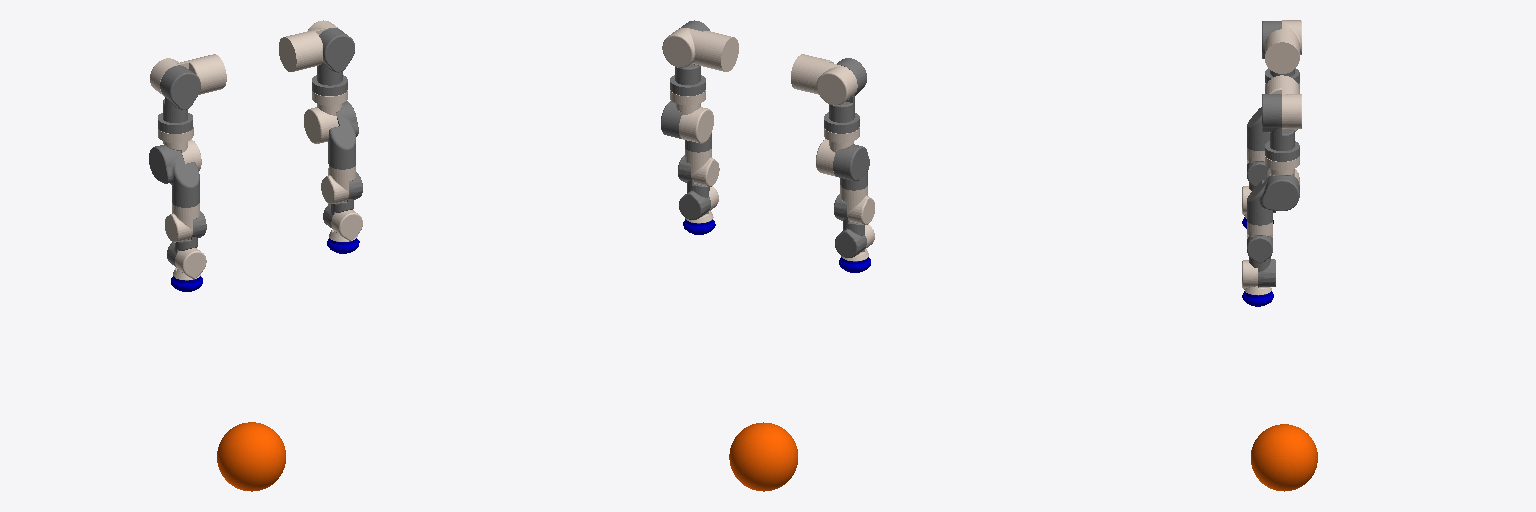
--- Render facts (derived) ---
Views: 3 orthographic renders of the robot side by side, from view 1: azimuth 30°, elevation 25°; view 2: azimuth 150°, elevation 25°; view 3: azimuth 270°, elevation 25°.
Robot: ballbot — 26 links, 25 joints (17 revolute, 8 fixed); root link base_link; default pose: all joints at 0.
Links seen in each view (by area): view 1: Link_Ball, LArm2, LArm4, RArm2, RArm1, RArm4, LArm1, RArm3, LArm5, RArm5, RArm7, LArm7 (+3 smaller); view 2: Link_Ball, RArm1, LArm1, RArm3, LArm2, LArm4, RArm6, LArm6, RArm2, LArm3, LArm5, RArm5 (+1 smaller); view 3: Link_Ball, RArm4, RArm2, LArm1, RArm1, RArm6, LArm4, RArm7, LArm2, RArm3.
Boxes of the visible links, box(x1,y1,x2,y2) form: Link_Ball: box(217, 422, 285, 491); LArm2: box(158, 65, 200, 133); LArm4: box(149, 145, 199, 207); RArm2: box(312, 28, 354, 95); RArm1: box(279, 20, 341, 71); RArm4: box(328, 101, 358, 169); LArm1: box(150, 54, 226, 96); RArm3: box(304, 90, 347, 143); LArm5: box(165, 203, 199, 242); RArm5: box(321, 166, 355, 203); RArm7: box(329, 210, 362, 241); LArm7: box(173, 248, 206, 280); Link_Ball: box(729, 422, 797, 491); RArm1: box(662, 28, 738, 71); LArm1: box(791, 54, 857, 105); RArm3: box(670, 90, 713, 143); LArm2: box(824, 58, 866, 133); LArm4: box(833, 144, 869, 190); RArm6: box(678, 155, 710, 219); LArm6: box(834, 194, 866, 257); RArm2: box(670, 20, 709, 95); LArm3: box(816, 127, 859, 176); LArm5: box(840, 185, 874, 224); RArm5: box(685, 149, 719, 186); Link_Ball: box(1251, 424, 1317, 491); RArm4: box(1247, 175, 1299, 225); RArm2: box(1262, 94, 1299, 161); LArm1: box(1265, 20, 1301, 73); RArm1: box(1265, 75, 1301, 128); RArm6: box(1247, 236, 1275, 287); LArm4: box(1247, 107, 1269, 150); RArm7: box(1242, 260, 1271, 295); LArm2: box(1262, 21, 1299, 83); RArm3: box(1265, 156, 1299, 184).
Bounding box of the posed robot: 0.676 × 0.2387 × 1.49 m (x, y, z).
17 mesh visuals loaded from 12 distinct referenced files (10 binary STL); not drawn: 3 (reference not matched to a file when rendering).

robot.urdf — ballbot:
<?xml version="1.0" ?>
<!-- =================================================================================== -->
<!-- |    This document was autogenerated by xacro from ballbot_plus_knobhands.urdf.xacro | -->
<!-- |    EDITING THIS FILE BY HAND IS NOT RECOMMENDED                                 | -->
<!-- =================================================================================== -->
<robot name="ballbot" xmlns:xacro="http://ros.org/wiki/xacro">
  <!-- CAD -->
  <material name="black">
    <color rgba="0.0 0.0 0.0 1.0"/>
  </material>
  <material name="blue">
    <color rgba="0.0 0.0 0.8 1.0"/>
  </material>
  <material name="green">
    <color rgba="0.0 0.8 0.0 1.0"/>
  </material>
  <material name="dark_grey">
    <color rgba="0.2 0.2 0.2 1.0"/>
  </material>
  <material name="grey">
    <color rgba="0.5 0.5 0.5 1.0"/>
  </material>
  <material name="light_grey">
    <color rgba="0.8 0.8 0.8 1.0"/>
  </material>
  <material name="orange">
    <color rgba="1.0 0.423529411765 0.0392156862745 1.0"/>
  </material>
  <material name="brown">
    <color rgba="0.870588235294 0.811764705882 0.764705882353 1.0"/>
  </material>
  <material name="white">
    <color rgba="1.0 1.0 1.0 1.0"/>
  </material>
  <material name="yellow">
    <color rgba="0.8 0.68 0 1"/>
  </material>
  <material name="red">
    <color rgba="1.0 0.0 0.0 1"/>
  </material>
  <material name="aluminum">
    <color rgba="0.5 0.5 0.5 1"/>
  </material>
  <!-- ros_control plugin -->
  <gazebo>
    <plugin filename="libgazebo_ros_control.so" name="gazebo_ros_control">
      <robotNamespace>/ballbot</robotNamespace>
      <robotSimType>gazebo_ros_control/DefaultRobotHWSim</robotSimType>
      <legacyModeNS>true</legacyModeNS>
    </plugin>
  </gazebo>
  <gazebo reference="BallbotBase">
    <material>Gazebo/Orange</material>
    <selfCollide>false</selfCollide>
    <static>true</static>
  </gazebo>
  <gazebo reference="Link_FakeBall">
    <material>Gazebo/Orange</material>
    <selfCollide>true</selfCollide>
    <static>true</static>
  </gazebo>
  <gazebo reference="Link_Ball">
    <material>Gazebo/Orange</material>
    <self_collide>false</self_collide>
    <static>true</static>
  </gazebo>
  <gazebo reference="Link_FakeBody">
    <material>Gazebo/Orange</material>
    <selfCollide>false</selfCollide>
    <static>true</static>
  </gazebo>
  <gazebo reference="Link_Body">
    <material>Gazebo/Yellow</material>
    <self_collide>true</self_collide>
    <static>true</static>
  </gazebo>
  <!-- Right Arm Transmissions -->
  <transmission name="RArmTran1">
    <type>transmission_interface/SimpleTransmission</type>
    <joint name="JRA1">
      <hardwareInterface>hardware_interface/EffortJointInterface</hardwareInterface>
    </joint>
    <actuator name="RArmMotor1">
      <hardwareInterface>hardware_interface/EffortJointInterface</hardwareInterface>
      <mechanicalReduction>1</mechanicalReduction>
    </actuator>
  </transmission>
  <transmission name="RArmTran2">
    <type>transmission_interface/SimpleTransmission</type>
    <joint name="JRA2">
      <hardwareInterface>hardware_interface/EffortJointInterface</hardwareInterface>
    </joint>
    <actuator name="RArmMotor2">
      <hardwareInterface>hardware_interface/EffortJointInterface</hardwareInterface>
      <mechanicalReduction>1</mechanicalReduction>
    </actuator>
  </transmission>
  <transmission name="RArmTran3">
    <type>transmission_interface/SimpleTransmission</type>
    <joint name="JRA3">
      <hardwareInterface>hardware_interface/EffortJointInterface</hardwareInterface>
    </joint>
    <actuator name="RArmMotor3">
      <hardwareInterface>hardware_interface/EffortJointInterface</hardwareInterface>
      <mechanicalReduction>1</mechanicalReduction>
    </actuator>
  </transmission>
  <transmission name="RArmTran4">
    <type>transmission_interface/SimpleTransmission</type>
    <joint name="JRA4">
      <hardwareInterface>hardware_interface/EffortJointInterface</hardwareInterface>
    </joint>
    <actuator name="RArmMotor4">
      <hardwareInterface>hardware_interface/EffortJointInterface</hardwareInterface>
      <mechanicalReduction>1</mechanicalReduction>
    </actuator>
  </transmission>
  <transmission name="RArmTran5">
    <type>transmission_interface/SimpleTransmission</type>
    <joint name="JRA5">
      <hardwareInterface>hardware_interface/EffortJointInterface</hardwareInterface>
    </joint>
    <actuator name="RArmMotor5">
      <hardwareInterface>hardware_interface/EffortJointInterface</hardwareInterface>
      <mechanicalReduction>1</mechanicalReduction>
    </actuator>
  </transmission>
  <transmission name="RArmTran6">
    <type>transmission_interface/SimpleTransmission</type>
    <joint name="JRA6">
      <hardwareInterface>hardware_interface/EffortJointInterface</hardwareInterface>
    </joint>
    <actuator name="RArmMotor6">
      <hardwareInterface>hardware_interface/EffortJointInterface</hardwareInterface>
      <mechanicalReduction>1</mechanicalReduction>
    </actuator>
  </transmission>
  <transmission name="RArmTran7">
    <type>transmission_interface/SimpleTransmission</type>
    <joint name="JRA7">
      <hardwareInterface>hardware_interface/EffortJointInterface</hardwareInterface>
    </joint>
    <actuator name="RArmMotor7">
      <hardwareInterface>hardware_interface/EffortJointInterface</hardwareInterface>
      <mechanicalReduction>1</mechanicalReduction>
    </actuator>
  </transmission>
  <!-- Left Arm Transmissions -->
  <transmission name="LArmTran1">
    <type>transmission_interface/SimpleTransmission</type>
    <joint name="JLA1">
      <hardwareInterface>hardware_interface/EffortJointInterface</hardwareInterface>
    </joint>
    <actuator name="LArmMotor1">
      <hardwareInterface>hardware_interface/EffortJointInterface</hardwareInterface>
      <mechanicalReduction>1</mechanicalReduction>
    </actuator>
  </transmission>
  <transmission name="LArmTran2">
    <type>transmission_interface/SimpleTransmission</type>
    <joint name="JLA2">
      <hardwareInterface>hardware_interface/EffortJointInterface</hardwareInterface>
    </joint>
    <actuator name="LArmMotor2">
      <hardwareInterface>hardware_interface/EffortJointInterface</hardwareInterface>
      <mechanicalReduction>1</mechanicalReduction>
    </actuator>
  </transmission>
  <transmission name="LArmTran3">
    <type>transmission_interface/SimpleTransmission</type>
    <joint name="JLA3">
      <hardwareInterface>hardware_interface/EffortJointInterface</hardwareInterface>
    </joint>
    <actuator name="LArmMotor3">
      <hardwareInterface>hardware_interface/EffortJointInterface</hardwareInterface>
      <mechanicalReduction>1</mechanicalReduction>
    </actuator>
  </transmission>
  <transmission name="LArmTran4">
    <type>transmission_interface/SimpleTransmission</type>
    <joint name="JLA4">
      <hardwareInterface>hardware_interface/EffortJointInterface</hardwareInterface>
    </joint>
    <actuator name="LArmMotor4">
      <hardwareInterface>hardware_interface/EffortJointInterface</hardwareInterface>
      <mechanicalReduction>1</mechanicalReduction>
    </actuator>
  </transmission>
  <transmission name="LArmTran5">
    <type>transmission_interface/SimpleTransmission</type>
    <joint name="JLA5">
      <hardwareInterface>hardware_interface/EffortJointInterface</hardwareInterface>
    </joint>
    <actuator name="LArmMotor5">
      <hardwareInterface>hardware_interface/EffortJointInterface</hardwareInterface>
      <mechanicalReduction>1</mechanicalReduction>
    </actuator>
  </transmission>
  <transmission name="LArmTran6">
    <type>transmission_interface/SimpleTransmission</type>
    <joint name="JLA6">
      <hardwareInterface>hardware_interface/EffortJointInterface</hardwareInterface>
    </joint>
    <actuator name="LArmMotor6">
      <hardwareInterface>hardware_interface/EffortJointInterface</hardwareInterface>
      <mechanicalReduction>1</mechanicalReduction>
    </actuator>
  </transmission>
  <transmission name="LArmTran7">
    <type>transmission_interface/SimpleTransmission</type>
    <joint name="JLA7">
      <hardwareInterface>hardware_interface/EffortJointInterface</hardwareInterface>
    </joint>
    <actuator name="LArmMotor7">
      <hardwareInterface>hardware_interface/EffortJointInterface</hardwareInterface>
      <mechanicalReduction>1</mechanicalReduction>
    </actuator>
  </transmission>
  <!--<gazebo reference="">
    <material>Gazebo/Yellow</material>
  </gazebo>

  - Right Arm 
  <gazebo reference="Link_FakeBall">
    <mu1>0.2</mu1>
    <mu2>0.2</mu1>
    <material>Gazebo/Orange</material>
  </gazebo>

  <gazebo reference="Link_Ball">
    <mu1>0.2</mu1>
    <mu2>0.2</mu1>
    <material>Gazebo/Orange</material>
  </gazebo>

  <gazebo reference="Link_FakeBody">
    <mu1>0.2</mu1>
    <mu2>0.2</mu1>
    <material>Gazebo/Orange</material>
  </gazebo>

  <gazebo reference="Link_Body">
    <mu1>0.2</mu1>
    <mu2>0.2</mu1>
    <material>Gazebo/Orange</material>
  </gazebo-->
  <!-- Used for fixing robot to Gazebo 'base_link' -->
  <link name="base_link"/>
  <link name="Link_Ball">
    <inertial>
      <origin xyz="0.0 0.0 0.105838"/>
      <mass value="2.72"/>
      <inertia ixx="0.01220" ixy="0.00000" ixz="0.00000" iyy="0.01220" iyz="0.00000" izz="0.01220"/>
    </inertial>
    <visual>
      <origin rpy="0.0 0.0 0.0" xyz="0.0 0.0 0.0"/>
      <geometry>
        <mesh filename="package://ballbot_arm_description/meshes/v2020/ball.stl"/>
      </geometry>
      <material name="orange"/>
    </visual>
    <collision>
      <origin rpy="0 0 0" xyz="0 0 0"/>
      <geometry>
        <mesh filename="package://ballbot_arm_description/meshes/v2020/ball.stl"/>
      </geometry>
    </collision>
  </link>
  <link name="Link_Pitch">
    <inertial>
      <origin xyz="0.00000 0.00000 0.00000"/>
      <mass value="0.00001"/>
      <inertia ixx="0.0000001" ixy="0.0" ixz="0.0" iyy="0.0000001" iyz="0.0" izz="0.0000001"/>
    </inertial>
  </link>
  <link name="Link_Roll">
    <inertial>
      <origin xyz="0.00000 0.00000 0.00000"/>
      <mass value="0.00001"/>
      <inertia ixx="0.0000001" ixy="0.0" ixz="0.0" iyy="0.0000001" iyz="0.0" izz="0.0000001"/>
    </inertial>
  </link>
  <link name="Link_Yaw">
    <inertial>
      <origin xyz="0.00000 0.00000 0.00000"/>
      <mass value="0.00001"/>
      <inertia ixx="0.0000001" ixy="0.0" ixz="0.0" iyy="0.0000001" iyz="0.0" izz="0.0000001"/>
    </inertial>
  </link>
  <!-- Joints -->
  <joint name="Joint_World_Ball" type="fixed">
    <origin rpy="0.0 0.0 0.0" xyz="0.0 0.0 0.105838"/>
    <parent link="base_link"/>
    <child link="Link_Ball"/>
    <axis xyz="0 0 1"/>
  </joint>
  <joint name="xAngle" type="revolute">
    <origin rpy="0.0 0.0 0.0" xyz="0.0 0.0 0.0"/>
    <parent link="Link_Ball"/>
    <child link="Link_Pitch"/>
    <limit effort="30" lower="-0.349065850399" upper="0.349065850399" velocity="1.0"/>
    <axis xyz="0 1 0"/>
  </joint>
  <joint name="yAngle" type="revolute">
    <origin rpy="0.0 0.0 0.0" xyz="0.00000 0.00000 0.00000"/>
    <parent link="Link_Pitch"/>
    <child link="Link_Roll"/>
    <limit effort="30" lower="-0.349065850399" upper="0.349065850399" velocity="1.0"/>
    <axis xyz="-1 0 0"/>
  </joint>
  <joint name="yaw" type="revolute">
    <origin rpy="0.0 0.0 0.0" xyz="0.00000 0.00000 0.0"/>
    <parent link="Link_Roll"/>
    <child link="Link_Yaw"/>
    <limit effort="30" lower="-3.14159265359" upper="3.14159265359" velocity="1.0"/>
    <axis xyz="0 0 1"/>
  </joint>
  <joint name="JBalltoBody" type="fixed">
    <origin rpy="0.0 0.0 1.5707963268" xyz="0.0 0.0 0.762"/>
    <parent link="Link_Yaw"/>
    <child link="body_link"/>
    <limit effort="30" velocity="1.0"/>
    <axis xyz="0 0 1"/>
  </joint>
  <link name="body_link">
    <inertial>
      <origin xyz="0.015 0.0005 -0.015"/>
      <mass value="64.86"/>
      <inertia ixx="10.61648" ixy="0.00000" ixz="0.00000" iyy="10.61648" iyz="0.00000" izz="0.66440"/>
    </inertial>
    <visual>
      <origin rpy="0 0 0" xyz="0 0 -0.762"/>
      <geometry>
        <mesh filename="package://ballbot_arm_description/meshes/v2020/ballbot_body_v2021.stl"/>
      </geometry>
      <material name="yellow"/>
    </visual>
    <collision>
      <origin rpy="0 0 0" xyz="0 0 -0.0595"/>
      <geometry>
        <cylinder length="1.105" radius="0.184"/>
      </geometry>
    </collision>
  </link>
  <!-- ====================================== -->
  <!-- Right Arm -->
  <joint name="JRA0" type="fixed">
    <origin rpy="-1.5707963268 -1.5707963268 3.14159265359" xyz="-0.00635 -0.12314 0.56715"/>
    <parent link="body_link"/>
    <child link="RArm0"/>
    <axis xyz="0 0 1"/>
    <dynamics damping="1.0" friction="1.0"/>
  </joint>
  <link name="RArm0">
    <inertial>
      <origin rpy="0 0 0" xyz="-0.00832 0.0 -0.0418"/>
      <mass value="2.367"/>
      <inertia ixx="0.00366" ixy="0.0" ixz="-0.0000208" iyy="0.00398" iyz="0.0" izz="0.00461"/>
    </inertial>
    <visual>
      <origin rpy="0 0 0" xyz="0 0 0"/>
      <geometry>
        <mesh filename="package://ballbot_arm_description/meshes/v2020/link_base.stl"/>
      </geometry>
      <material name="grey"/>
    </visual>
    <collision>
      <origin rpy="0 0 0" xyz="0 0 0"/>
      <geometry>
        <mesh filename="package://ballbot_arm_description/meshes/v2020/link_base.stl"/>
      </geometry>
    </collision>
  </link>
  <link name="RArm1">
    <inertial>
      <origin xyz="0.0 0.00329 0.0865"/>
      <mass value="4.181"/>
      <inertia ixx="0.0172" ixy="0.0000173" ixz="0.0" iyy="0.0170" iyz="-0.000935" izz="0.00602"/>
    </inertial>
    <visual>
      <origin rpy="0 0 3.14159265359" xyz="0.0 0.0 0.0"/>
      <geometry>
        <mesh filename="package://ballbot_arm_description/meshes/v2020/link_shoulder_2_base.stl"/>
      </geometry>
      <material name="brown"/>
    </visual>
    <collision>
      <origin rpy="0 0 0" xyz="0.0 0.0 -0.05525"/>
      <geometry>
        <cylinder length="0.1105" radius="0.05"/>
      </geometry>
    </collision>
  </link>
  <link name="RArm2">
    <inertial>
      <origin xyz="-0.123 0.000 -0.0507"/>
      <mass value="1.832"/>
      <inertia ixx="0.00241" ixy="0.0" ixz="-0.000742" iyy="0.00559" iyz="0.0" izz="0.00563"/>
    </inertial>
    <visual>
      <origin rpy="0 0 0" xyz="0.0 0.0 0.0"/>
      <geometry>
        <mesh filename="package://ballbot_arm_description/meshes/v2020/link_shoulder_2_uparm.stl"/>
      </geometry>
      <material name="grey"/>
    </visual>
    <collision>
      <origin rpy="0 0 0" xyz="0.0 0.0 -0.05525"/>
      <geometry>
        <cylinder length="0.1105" radius="0.05"/>
      </geometry>
    </collision>
  </link>
  <link name="RArm3">
    <inertial>
      <origin xyz="0.0 -0.00963 0.0773"/>
      <mass value="1.821"/>
      <inertia ixx="0.00375" ixy="0.0" ixz="0.0" iyy="0.00338" iyz="0.000169" izz="0.00278"/>
    </inertial>
    <visual>
      <origin rpy="0 0 0" xyz="0.0 0.0 -0.02718"/>
      <geometry>
        <mesh filename="package://ballbot_arm_description/meshes/v2020/link_upperarm.stl"/>
      </geometry>
      <material name="brown"/>
    </visual>
    <collision>
      <origin rpy="0 0 0" xyz="0.0 0.0 -0.05525"/>
      <geometry>
        <cylinder length="0.1105" radius="0.05"/>
      </geometry>
    </collision>
  </link>
  <link name="RArm4">
    <inertial>
      <origin xyz="-0.0758 0.0594 -0.0448"/>
      <mass value="1.105"/>
      <inertia ixx="0.00186" ixy="0.000915" ixz="-0.000456" iyy="0.00276" iyz="0.000276" izz="0.00356"/>
    </inertial>
    <visual>
      <origin rpy="0 0 0" xyz="0.0 0.0 0.0"/>
      <geometry>
        <mesh filename="package://ballbot_arm_description/meshes/v2020/link_forearm_r.stl"/>
      </geometry>
      <material name="grey"/>
    </visual>
    <collision>
      <origin rpy="0 0 0" xyz="0.0 0.0 -0.05525"/>
      <geometry>
        <cylinder length="0.1105" radius="0.05"/>
      </geometry>
    </collision>
  </link>
  <link name="RArm5">
    <inertial>
      <origin xyz="-0.00147 0.0 -0.0537"/>
      <mass value="0.973"/>
      <inertia ixx="0.00106" ixy="0.0" ixz="-0.0000188" iyy="0.00123" iyz="0.0" izz="0.00101"/>
    </inertial>
    <visual>
      <origin rpy="0 0 0" xyz="0.0 0.0 0.0"/>
      <geometry>
        <mesh filename="package://ballbot_arm_description/meshes/v2020/link_forearm_2_wrist.stl"/>
      </geometry>
      <material name="brown"/>
    </visual>
    <collision>
      <origin rpy="0 0 0" xyz="0.0 0.0 0.0495"/>
      <geometry>
        <cylinder length="0.099" radius="0.0375"/>
      </geometry>
    </collision>
  </link>
  <link name="RArm6">
    <inertial>
      <origin xyz="0.0947 0.00543 0.0386"/>
      <mass value="1.013"/>
      <inertia ixx="0.00106" ixy="-0.0000831" ixz="-0.000236" iyy="0.00193" iyz="-0.0000139" izz="0.00215"/>
    </inertial>
    <visual>
      <origin rpy="0 0 0" xyz="0.0 0.0 0.0"/>
      <geometry>
        <mesh filename="package://ballbot_arm_description/meshes/v2020/link_wrist_mid.stl"/>
      </geometry>
      <material name="grey"/>
    </visual>
    <collision>
      <origin rpy="0 0 0" xyz="0.0 0.0 0.0495"/>
      <geometry>
        <cylinder length="0.099" radius="0.0375"/>
      </geometry>
    </collision>
  </link>
  <link name="RArm7">
    <inertial>
      <origin xyz="0.0235 -0.000000178 0.0295"/>
      <mass value="0.195"/>
      <inertia ixx="0.000257" ixy="0.0" ixz="-0.0000691" iyy="0.000325" iyz="0.0" izz="0.000362"/>
    </inertial>
    <visual>
      <origin rpy="0 0 0" xyz="0.0 0.0 0.0"/>
      <geometry>
        <mesh filename="package://ballbot_arm_description/meshes/v2020/link_wrist_2_hand.stl"/>
      </geometry>
      <material name="brown"/>
    </visual>
    <collision>
      <origin rpy="0 0 0" xyz="0.0 0.0 0.0495"/>
      <geometry>
        <cylinder length="0.099" radius="0.0375"/>
      </geometry>
    </collision>
  </link>
  <joint name="JRA1" type="revolute">
    <origin rpy="0.0 0.0 0.0" xyz="0.0 0.0 0.0"/>
    <parent link="RArm0"/>
    <child link="RArm1"/>
    <limit effort="30.0" lower="-2.96705972839" upper="2.96705972839" velocity="3.0"/>
    <axis xyz="0 0 1"/>
    <dynamics damping="0.7" friction="0.5"/>
  </joint>
  <joint name="JRA2" type="revolute">
    <origin rpy="-1.5707963705062866 0.0 -0.0" xyz="0.00000 0.05436 0.14900"/>
    <parent link="RArm1"/>
    <child link="RArm2"/>
    <limit effort="30.0" lower="-0.0349065850399" upper="1.5707963268" velocity="3.0"/>
    <axis xyz="0 0 1"/>
    <dynamics damping="0.7" friction="0.5"/>
  </joint>
  <joint name="JRA3" type="revolute">
    <origin rpy="3.141592653589793 -1.570796282091413 3.141592653589793" xyz="-0.17786 0.00000 -0.05436"/>
    <parent link="RArm2"/>
    <child link="RArm3"/>
    <limit effort="30.0" lower="-1.5707963268" upper="1.5707963268" velocity="3.0"/>
    <axis xyz="0 0 1"/>
    <dynamics damping="0.7" friction="0.5"/>
  </joint>
  <joint name="JRA4" type="revolute">
    <origin rpy="-2.3561944901923457 1.5707962635746238 2.3561944901923457" xyz="0.00000 -0.05436 0.08522"/>
    <parent link="RArm3"/>
    <child link="RArm4"/>
    <limit effort="30.0" lower="-0.349065850399" upper="2.79252680319" velocity="3.0"/>
    <axis xyz="0 0 1"/>
    <dynamics damping="0.7" friction="0.5"/>
  </joint>
  <joint name="JRA5" type="revolute">
    <origin rpy="0 1.5707963268 0" xyz="-0.13200 0.07000 -0.05073"/>
    <parent link="RArm4"/>
    <child link="RArm5"/>
    <limit effort="30.0" lower="-2.82743338823" upper="2.82743338823" velocity="3.0"/>
    <axis xyz="0 0 1"/>
    <dynamics damping="0.7" friction="0.5"/>
  </joint>
  <joint name="JRA6" type="revolute">
    <origin rpy="0 1.5707963268 0" xyz="-0.04115 0.0 -0.06"/>
    <parent link="RArm5"/>
    <child link="RArm6"/>
    <limit effort="30.0" lower="-1.49599650171" upper="1.49599650171" velocity="3.0"/>
    <axis xyz="0 0 1"/>
    <dynamics damping="0.7" friction="0.5"/>
  </joint>
  <joint name="JRA7" type="revolute">
    <origin rpy="1.5707963268 0.0 0.0" xyz="0.10750 0.04650 0.041150"/>
    <parent link="RArm6"/>
    <child link="RArm7"/>
    <limit effort="30.0" lower="-1.49599650171" upper="1.49599650171" velocity="3.0"/>
    <axis xyz="0 0 1"/>
    <dynamics damping="0.7" friction="0.5"/>
  </joint>
  <link name="toolR">
    <inertial>
      <origin xyz="0.0 0.0 0.0"/>
      <mass value="0.0"/>
      <inertia ixx="0.00001" ixy="0.0" ixz="0.0" iyy="0.00001" iyz="0.0" izz="0.00001"/>
    </inertial>
  </link>
  <joint name="RArm7-toolR" type="fixed">
    <origin rpy="0 1.5707963268 0" xyz="0.055 0 0.04065"/>
    <axis xyz="0 0 1"/>
    <parent link="RArm7"/>
    <child link="toolR"/>
  </joint>
  <!-- ====================================== -->
  <!-- Left Arm-->
  <joint name="JLA0" type="fixed">
    <origin rpy="1.5707963268 -1.5707963268 -3.14159265359" xyz="-0.00635 0.12314 0.56715"/>
    <parent link="body_link"/>
    <child link="LArm0"/>
    <axis xyz="0 0 1"/>
  </joint>
  <link name="LArm0">
    <inertial>
      <origin rpy="0 0 0" xyz="-0.00832 0.0 -0.0418"/>
      <mass value="2.367"/>
      <inertia ixx="0.00366" ixy="0.0" ixz="-0.0000208" iyy="0.00398" iyz="0.0" izz="0.00461"/>
    </inertial>
    <visual>
      <origin rpy="0 0 0" xyz="0 0 0"/>
      <geometry>
        <mesh filename="package://ballbot_arm_description/meshes/v2020/link_base.stl"/>
      </geometry>
      <material name="grey"/>
    </visual>
    <collision>
      <origin rpy="0 0 0" xyz="0 0 0"/>
      <geometry>
        <mesh filename="package://ballbot_arm_description/meshes/v2020/link_base.stl"/>
      </geometry>
    </collision>
  </link>
  <link name="LArm1">
    <inertial>
      <origin xyz="0.0 0.00329 0.0865"/>
      <mass value="4.181"/>
      <inertia ixx="0.0172" ixy="0.0000173" ixz="0.0" iyy="0.0170" iyz="-0.000935" izz="0.00602"/>
    </inertial>
    <visual>
      <origin rpy="0 0 0" xyz="0.0 0.0 0.0"/>
      <geometry>
        <mesh filename="package://ballbot_arm_description/meshes/v2020/link_shoulder_2_base.stl"/>
      </geometry>
      <material name="brown"/>
    </visual>
    <collision>
      <origin rpy="0 0 0" xyz="0.0 0.0 -0.05525"/>
      <geometry>
        <cylinder length="0.1105" radius="0.05"/>
      </geometry>
      <material name="blue"/>
    </collision>
  </link>
  <link name="LArm2">
    <inertial>
      <origin xyz="-0.123 0.000 -0.0507"/>
      <mass value="1.832"/>
      <inertia ixx="0.00241" ixy="0.0" ixz="-0.000742" iyy="0.00559" iyz="0.0" izz="0.00563"/>
    </inertial>
    <visual>
      <origin rpy="0 0 0" xyz="0.0 0.0 0.0"/>
      <geometry>
        <mesh filename="package://ballbot_arm_description/meshes/v2020/link_shoulder_2_uparm.stl"/>
      </geometry>
      <material name="grey"/>
    </visual>
    <collision>
      <origin rpy="0 0 0" xyz="0.0 0.0 -0.05525"/>
      <geometry>
        <cylinder length="0.1105" radius="0.05"/>
      </geometry>
      <material name="blue"/>
    </collision>
  </link>
  <link name="LArm3">
    <inertial>
      <origin xyz="0.0 -0.00963 0.0773"/>
      <mass value="1.821"/>
      <inertia ixx="0.00375" ixy="0.0" ixz="0.0" iyy="0.00338" iyz="0.000169" izz="0.00278"/>
    </inertial>
    <visual>
      <origin rpy="0 0 0" xyz="0.0 0.0 -0.02718"/>
      <geometry>
        <mesh filename="package://ballbot_arm_description/meshes/v2020/link_upperarm.stl"/>
      </geometry>
      <material name="brown"/>
    </visual>
    <collision>
      <origin rpy="0 0 0" xyz="0.0 0.0 -0.05525"/>
      <geometry>
        <cylinder length="0.1105" radius="0.05"/>
      </geometry>
      <material name="blue"/>
    </collision>
  </link>
  <link name="LArm4">
    <inertial>
      <origin xyz="-0.0758 -0.0594 -0.0448"/>
      <mass value="1.105"/>
      <inertia ixx="0.00186" ixy="-0.000915" ixz="-0.000456" iyy="0.00276" iyz="-0.000276" izz="0.00356"/>
    </inertial>
    <visual>
      <origin rpy="0 0 0" xyz="0.0 0.0 0.0"/>
      <geometry>
        <mesh filename="package://ballbot_arm_description/meshes/v2020/link_forearm.stl"/>
      </geometry>
      <material name="grey"/>
    </visual>
    <collision>
      <origin rpy="0 0 0" xyz="0.0 0.0 -0.05525"/>
      <geometry>
        <cylinder length="0.1105" radius="0.05"/>
      </geometry>
      <material name="blue"/>
    </collision>
  </link>
  <link name="LArm5">
    <inertial>
      <origin xyz="-0.00147 0.0 -0.0537"/>
      <mass value="0.973"/>
      <inertia ixx="0.00106" ixy="0.0" ixz="-0.0000188" iyy="0.00123" iyz="0.0" izz="0.00101"/>
    </inertial>
    <visual>
      <origin rpy="0 0 0" xyz="0.0 0.0 0.0"/>
      <geometry>
        <mesh filename="package://ballbot_arm_description/meshes/v2020/link_forearm_2_wrist.stl"/>
      </geometry>
      <material name="brown"/>
    </visual>
    <collision>
      <origin rpy="0 0 0" xyz="0.0 0.0 0.0495"/>
      <geometry>
        <cylinder length="0.099" radius="0.0375"/>
      </geometry>
      <material name="blue"/>
    </collision>
  </link>
  <link name="LArm6">
    <inertial>
      <origin xyz="0.0947 0.00543 0.0386"/>
      <mass value="1.013"/>
      <inertia ixx="0.00106" ixy="-0.0000831" ixz="-0.000236" iyy="0.00193" iyz="-0.0000139" izz="0.00215"/>
    </inertial>
    <visual>
      <origin rpy="0 0 0" xyz="0.0 0.0 0.0"/>
      <geometry>
        <mesh filename="package://ballbot_arm_description/meshes/v2020/link_wrist_mid.stl"/>
      </geometry>
      <material name="grey"/>
    </visual>
    <collision>
      <origin rpy="0 0 0" xyz="0.0 0.0 0.0495"/>
      <geometry>
        <cylinder length="0.099" radius="0.0375"/>
      </geometry>
      <material name="blue"/>
    </collision>
  </link>
  <link name="LArm7">
    <inertial>
      <origin xyz="0.0235 -0.000000178 0.0295"/>
      <mass value="0.195"/>
      <inertia ixx="0.000257" ixy="0.0" ixz="-0.0000691" iyy="0.000325" iyz="0.0" izz="0.000362"/>
    </inertial>
    <visual>
      <origin rpy="0 0 0" xyz="0.0 0.0 0.0"/>
      <geometry>
        <mesh filename="package://ballbot_arm_description/meshes/v2020/link_wrist_2_hand.stl"/>
      </geometry>
      <material name="brown"/>
    </visual>
    <collision>
      <origin rpy="0 0 0" xyz="0.0 0.0 0.0495"/>
      <geometry>
        <cylinder length="0.099" radius="0.0375"/>
      </geometry>
      <material name="blue"/>
    </collision>
  </link>
  <joint name="JLA1" type="revolute">
    <origin rpy="0.0 0.0 0.0" xyz="0.0 0.0 0.0"/>
    <parent link="LArm0"/>
    <child link="LArm1"/>
    <limit effort="30.0" lower="-2.96705972839" upper="2.96705972839" velocity="3.0"/>
    <axis xyz="0 0 1"/>
    <dynamics damping="0.7" friction="0.5"/>
  </joint>
  <joint name="JLA2" type="revolute">
    <origin rpy="1.5707963705062866 -0.0 0.0" xyz="0.00000 -0.05436 0.14900"/>
    <parent link="LArm1"/>
    <child link="LArm2"/>
    <limit effort="30.0" lower="-1.5707963268" upper="0.0349065850399" velocity="3.0"/>
    <axis xyz="0 0 1"/>
    <dynamics damping="0.7" friction="0.5"/>
  </joint>
  <joint name="JLA3" type="revolute">
    <origin rpy="2.0344439357957036 1.5707962290814481 -1.1071487177940917" xyz="-0.17786 0.00000 -0.05436"/>
    <parent link="LArm2"/>
    <child link="LArm3"/>
    <limit effort="30.0" lower="-1.5707963268" upper="1.5707963268" velocity="3.0"/>
    <axis xyz="0 0 1"/>
    <dynamics damping="0.7" friction="0.5"/>
  </joint>
  <joint name="JLA4" type="revolute">
    <origin rpy="-2.3561944901923457 1.5707962635746238 2.3561944901923457" xyz="0.00000 -0.05436 0.08522"/>
    <parent link="LArm3"/>
    <child link="LArm4"/>
    <limit effort="30.0" lower="-2.79252680319" upper="0.349065850399" velocity="3.0"/>
    <axis xyz="0 0 1"/>
    <dynamics damping="0.7" friction="0.5"/>
  </joint>
  <joint name="JLA5" type="revolute">
    <origin rpy="-1.5707963268 -1.5707963268 -1.5707963268" xyz="-0.13200 -0.07000 -0.05073"/>
    <parent link="LArm4"/>
    <child link="LArm5"/>
    <limit effort="30.0" lower="-2.82743338823" upper="2.82743338823" velocity="3.0"/>
    <axis xyz="0 0 1"/>
    <dynamics damping="0.7" friction="0.5"/>
  </joint>
  <joint name="JLA6" type="revolute">
    <origin rpy="0 1.5707963268 0" xyz="-0.041150 0.0 -0.06000"/>
    <parent link="LArm5"/>
    <child link="LArm6"/>
    <limit effort="30.0" lower="-1.49599650171" upper="1.49599650171" velocity="3.0"/>
    <axis xyz="0 0 1"/>
    <dynamics damping="0.7" friction="0.5"/>
  </joint>
  <joint name="JLA7" type="revolute">
    <origin rpy="1.5707963268 0.0 0.0" xyz="0.10750 0.04650 0.041150"/>
    <parent link="LArm6"/>
    <child link="LArm7"/>
    <limit effort="30.0" lower="-1.49599650171" upper="1.49599650171" velocity="3.0"/>
    <axis xyz="0 0 1"/>
    <dynamics damping="0.7" friction="0.5"/>
  </joint>
  <link name="toolL">
    <inertial>
      <origin xyz="0.0 0.0 0.0"/>
      <mass value="0.0"/>
      <inertia ixx="0.00001" ixy="0.0" ixz="0.0" iyy="0.00001" iyz="0.0" izz="0.00001"/>
    </inertial>
  </link>
  <joint name="LArm7-toolL" type="fixed">
    <origin rpy="0 1.5707963268 0" xyz="0.055 0 0.04065"/>
    <axis xyz="0 0 1"/>
    <parent link="LArm7"/>
    <child link="toolL"/>
  </joint>
  <joint name="JR_KnobHand" type="fixed">
    <origin rpy="0. 0. 0." xyz="0. 0. 0."/>
    <axis xyz="0 0 1"/>
    <parent link="toolR"/>
    <child link="R_knobhand_link"/>
  </joint>
  <link name="R_knobhand_link">
    <visual>
      <origin rpy="0 0 0" xyz="0 0 0"/>
      <geometry>
        <mesh filename="package://ballbot_arm_description/meshes/endeffectors/knob_hand.stl"/>
      </geometry>
      <material name="blue"/>
    </visual>
    <collision>
      <origin rpy="0 0 0" xyz="0 0 0"/>
      <geometry>
        <mesh filename="package://ballbot_arm_description/meshes/endeffectors/knob_hand.stl"/>
      </geometry>
    </collision>
    <inertial>
      <origin rpy="0 0 0" xyz="0.0 0.0 0.0235592"/>
      <mass value="0.134"/>
      <inertia ixx="3.311269" ixy="0.0" ixz="0.0" iyy="3.311269" iyz="0.0" izz="2.919272"/>
    </inertial>
  </link>
  <joint name="JL_KnobHand" type="fixed">
    <origin rpy="0. 0. 0." xyz="0. 0. 0."/>
    <axis xyz="0 0 1"/>
    <parent link="toolL"/>
    <child link="L_knobhand_link"/>
  </joint>
  <link name="L_knobhand_link">
    <visual>
      <origin rpy="0 0 0" xyz="0 0 0"/>
      <geometry>
        <mesh filename="package://ballbot_arm_description/meshes/endeffectors/knob_hand.stl"/>
      </geometry>
      <material name="blue"/>
    </visual>
    <collision>
      <origin rpy="0 0 0" xyz="0 0 0"/>
      <geometry>
        <mesh filename="package://ballbot_arm_description/meshes/endeffectors/knob_hand.stl"/>
      </geometry>
    </collision>
    <inertial>
      <origin rpy="0 0 0" xyz="0.0 0.0 0.0235592"/>
      <mass value="0.134"/>
      <inertia ixx="3.311269" ixy="0.0" ixz="0.0" iyy="3.311269" iyz="0.0" izz="2.919272"/>
    </inertial>
  </link>
</robot>
